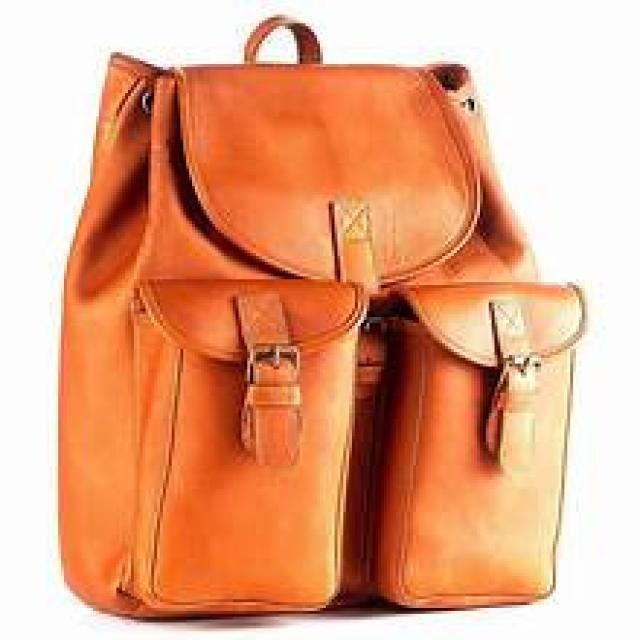backpack: (56, 13, 586, 621)
